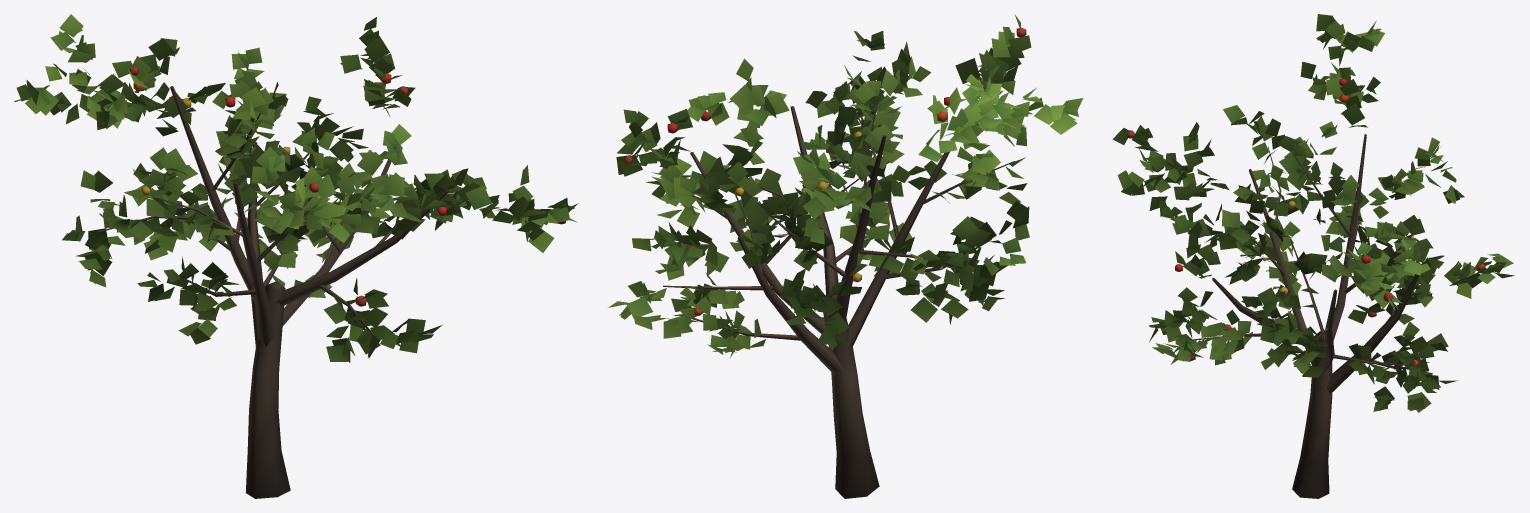
Rendered from apple-a.lod1.glb.
3 views of the same model, side by side, from view 1: azimuth 30°, elevation 25°; view 2: azimuth 150°, elevation 25°; view 3: azimuth 270°, elevation 25° (orthographic). The views are drawn at different scales.
Bounding box in the file's own units: 5.11 × 4.99 × 4.45.
